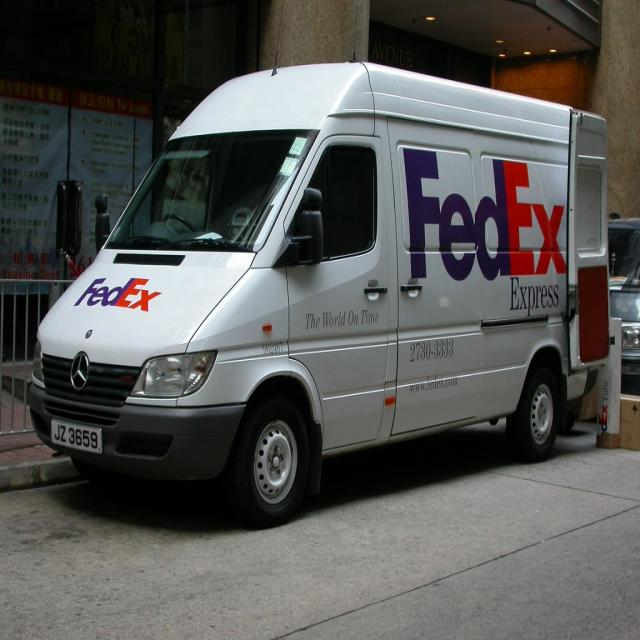fedex: (397, 141, 571, 284), (74, 273, 167, 318)
